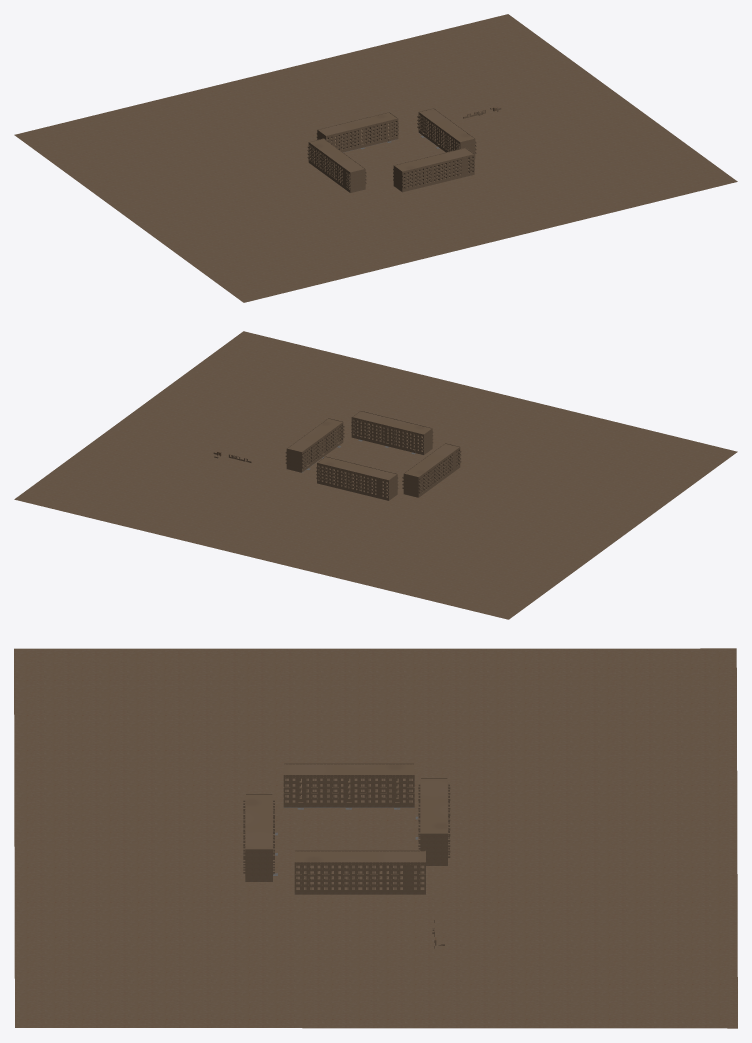
The model's file is Hrushevka.fbx.
3 views of the same model, one above another, from view 1: azimuth 30°, elevation 25°; view 2: azimuth 150°, elevation 25°; view 3: azimuth 270°, elevation 25° (orthographic). The views are drawn at different scales.
Parts seen in each view (by area): view 1: Plane.001, Cube.002, Cube.003, Cube.001, Cube.004; view 2: Plane.001, Cube.002, Cube.003, Cube.004, Cube.001; view 3: Plane.001, Cube.001, Cube.004, Cube.002, Cube.003.
Boxes of the visible parts, left/top/right/bottom form: Plane.001: left=14, top=14, right=737, bottom=302; Cube.002: left=393, top=147, right=474, bottom=192; Cube.003: left=316, top=112, right=398, bottom=152; Cube.001: left=307, top=138, right=366, bottom=192; Cube.004: left=417, top=108, right=476, bottom=158; Plane.001: left=14, top=331, right=737, bottom=619; Cube.002: left=351, top=410, right=433, bottom=455; Cube.003: left=316, top=456, right=398, bottom=500; Cube.004: left=285, top=418, right=344, bottom=472; Cube.001: left=402, top=443, right=461, bottom=497; Plane.001: left=14, top=648, right=737, bottom=1028; Cube.001: left=283, top=763, right=414, bottom=809; Cube.004: left=294, top=850, right=425, bottom=894; Cube.002: left=243, top=794, right=277, bottom=881; Cube.003: left=415, top=778, right=450, bottom=865.
Size of the model in its own units: 41552 by 2172 by 33465.
3 materials, 3 textured.
